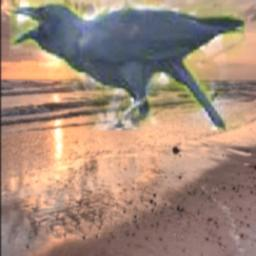Crow: (9, 0, 245, 131)
